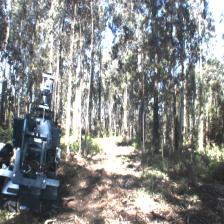trunktrack_idkeyframe: (153, 102, 159, 154)
